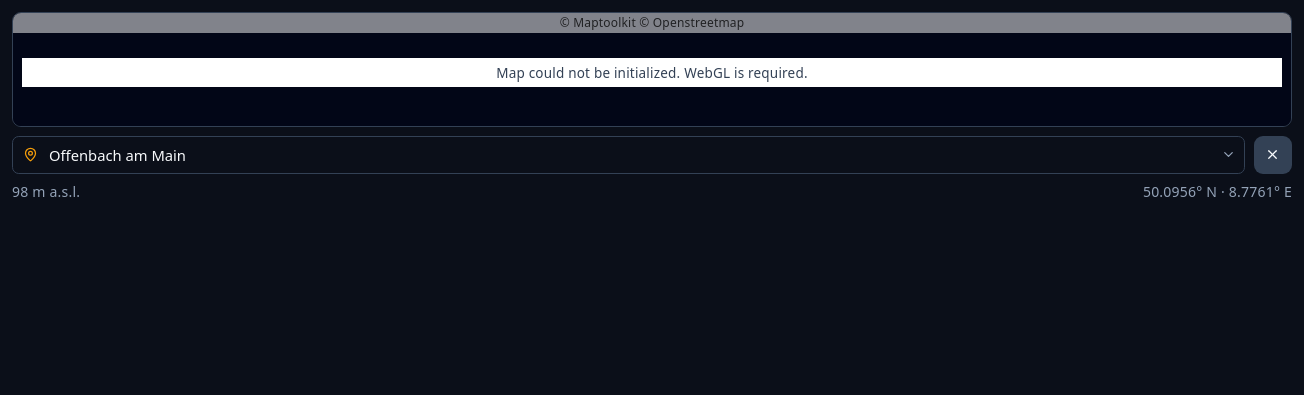
Test: LocationSelector Component › Location History and Suggestions › drop-down arrow (spec §16.5, #166) › closes on a second click and on Escape; Alt+ArrowDown opens it
Click the button named "Show most-used locations". click: (1228, 155)
box: [1218,145,1238,164]
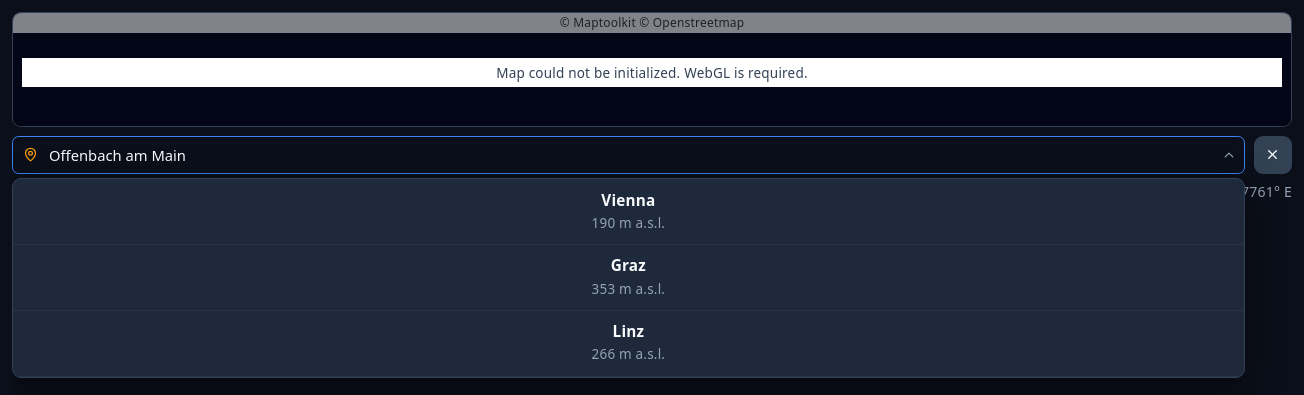
Click the button named "Show most-used locations". click: (1228, 155)
box: [1218,145,1238,164]
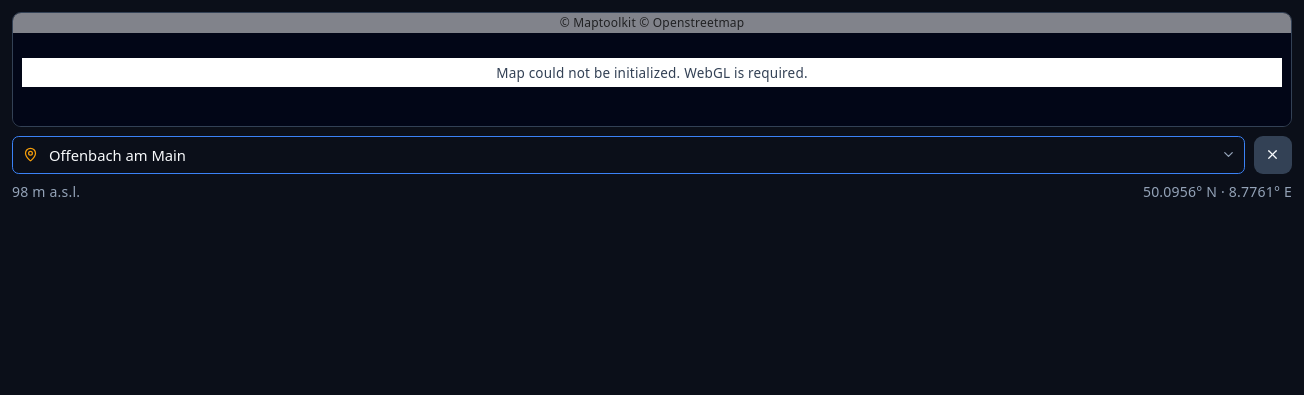
expect the list with class "autocomplete-dropdown" is gone: met
Press ArrowDown in the field with placeholder "Search location...", box [12,136,1245,174]
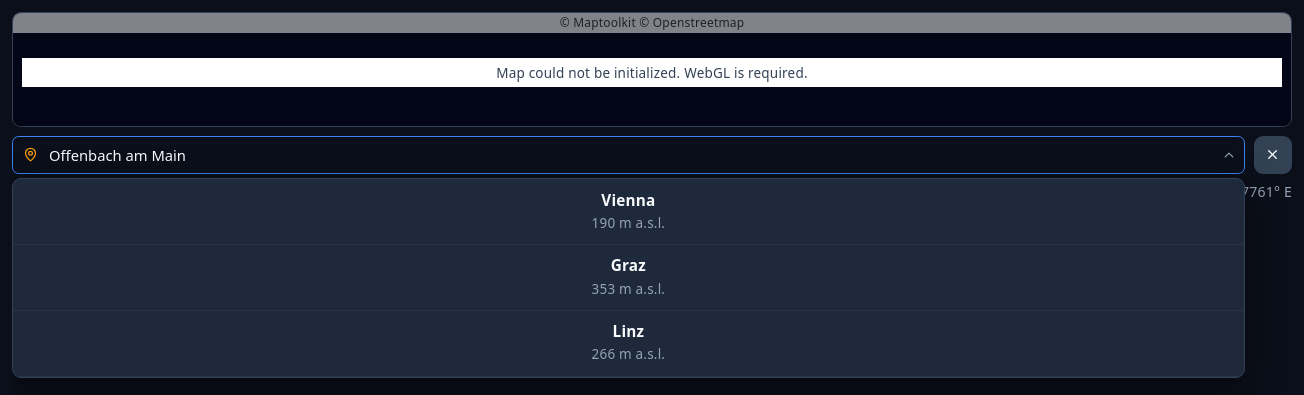
Press Escape in the field with placeholder "Search location...", box [12,136,1245,174]
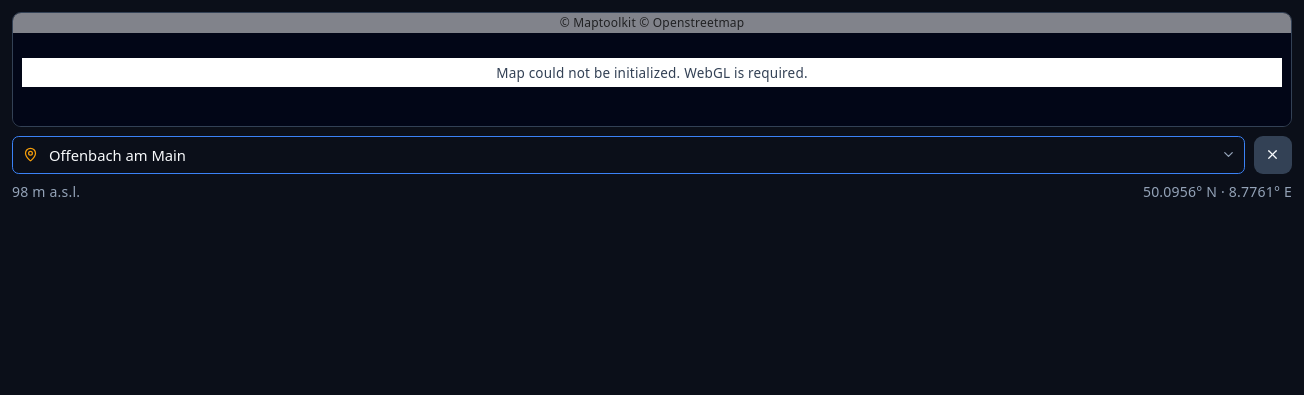
expect the list with class "autocomplete-dropdown" is gone: met
